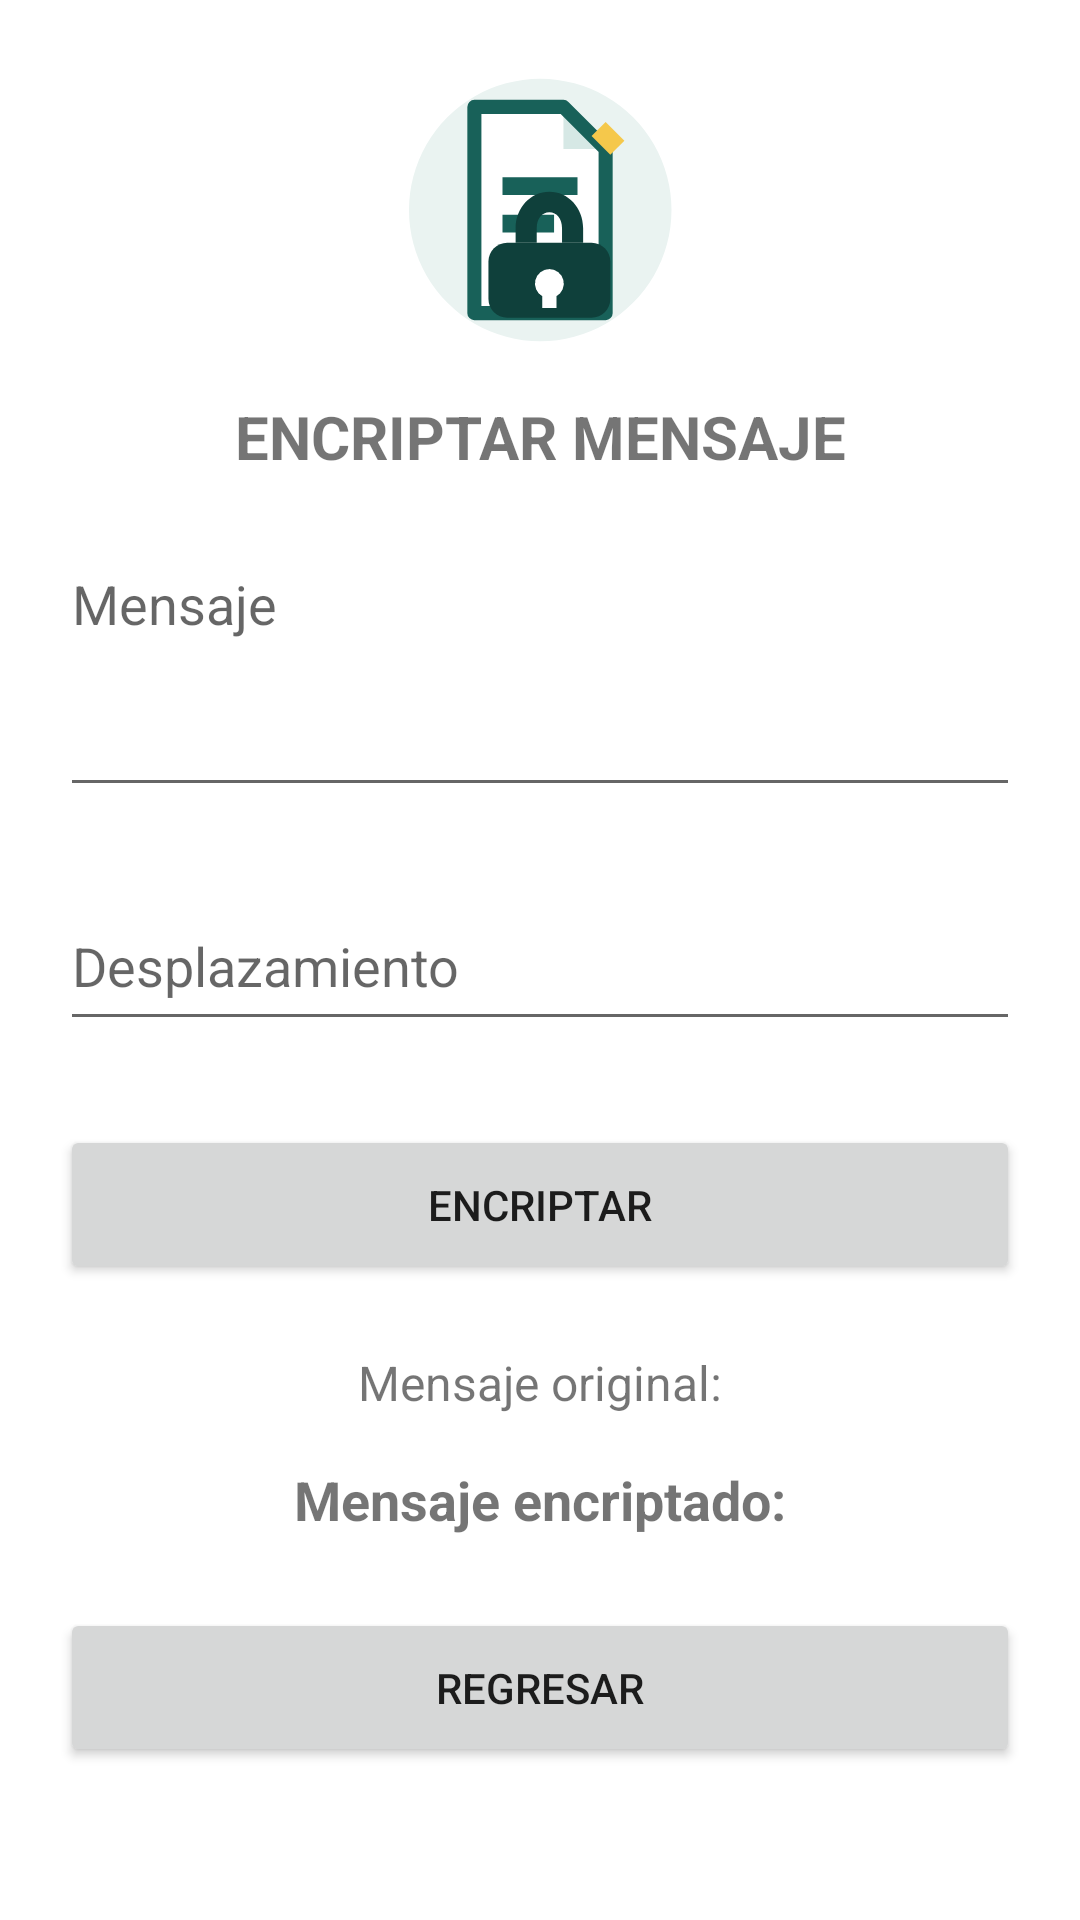

Point at icon controls on the screen. Image size 1080 x 1920, points as point (x, y).
encrypt file: point (546, 210)
